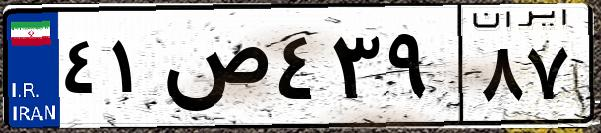1: (110, 28, 158, 98)
3: (330, 28, 385, 110)
4: (270, 28, 330, 110), (57, 26, 110, 100)
7: (525, 38, 570, 115)
8: (475, 38, 525, 113)
9: (385, 28, 445, 110)
ص: (158, 20, 270, 120)
